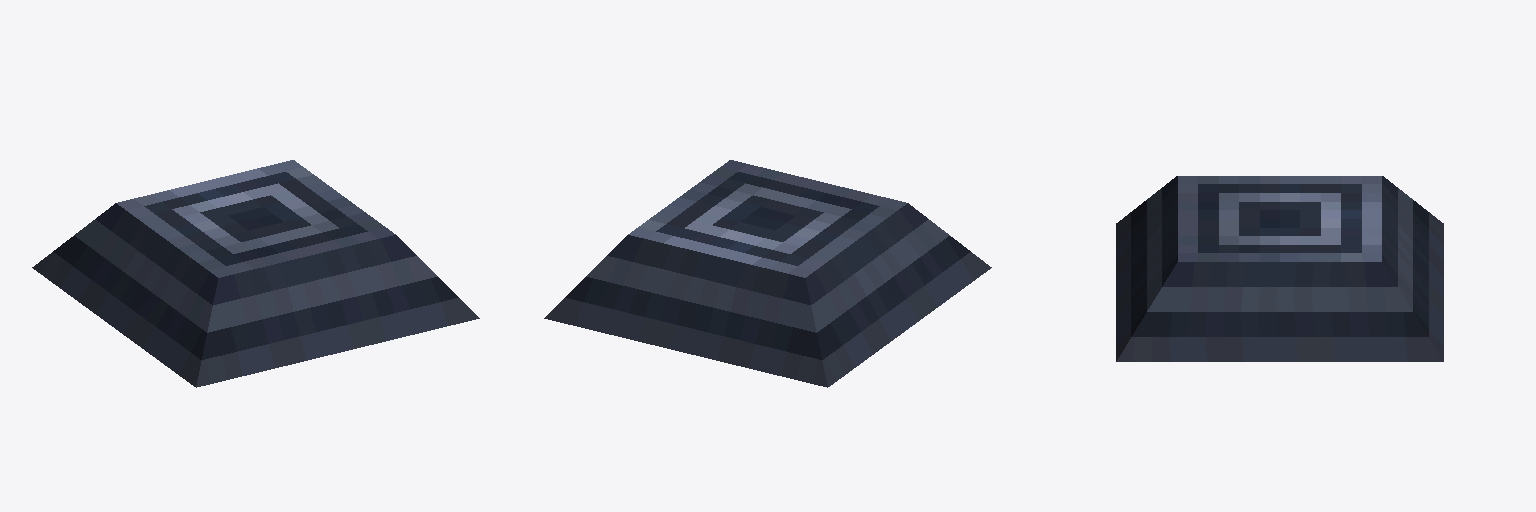
3 renders of one model, left to right at view 1: azimuth 30°, elevation 25°; view 2: azimuth 150°, elevation 25°; view 3: azimuth 270°, elevation 25°, orthographic.
Visible parts, largest first — view 1: adjustment_thruster; view 2: adjustment_thruster; view 3: adjustment_thruster.
Part boxes in pixels (left/top/right/bottom): adjustment_thruster: left=32, top=160, right=479, bottom=387; adjustment_thruster: left=544, top=160, right=991, bottom=387; adjustment_thruster: left=1116, top=176, right=1443, bottom=361.
Size of the model in its own units: 1 by 0.25 by 1.
1 materials, 1 textured.